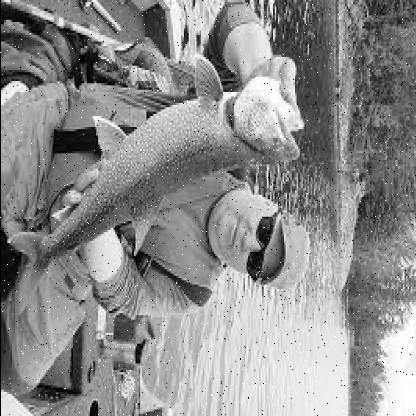fish: (6, 58, 308, 322)
